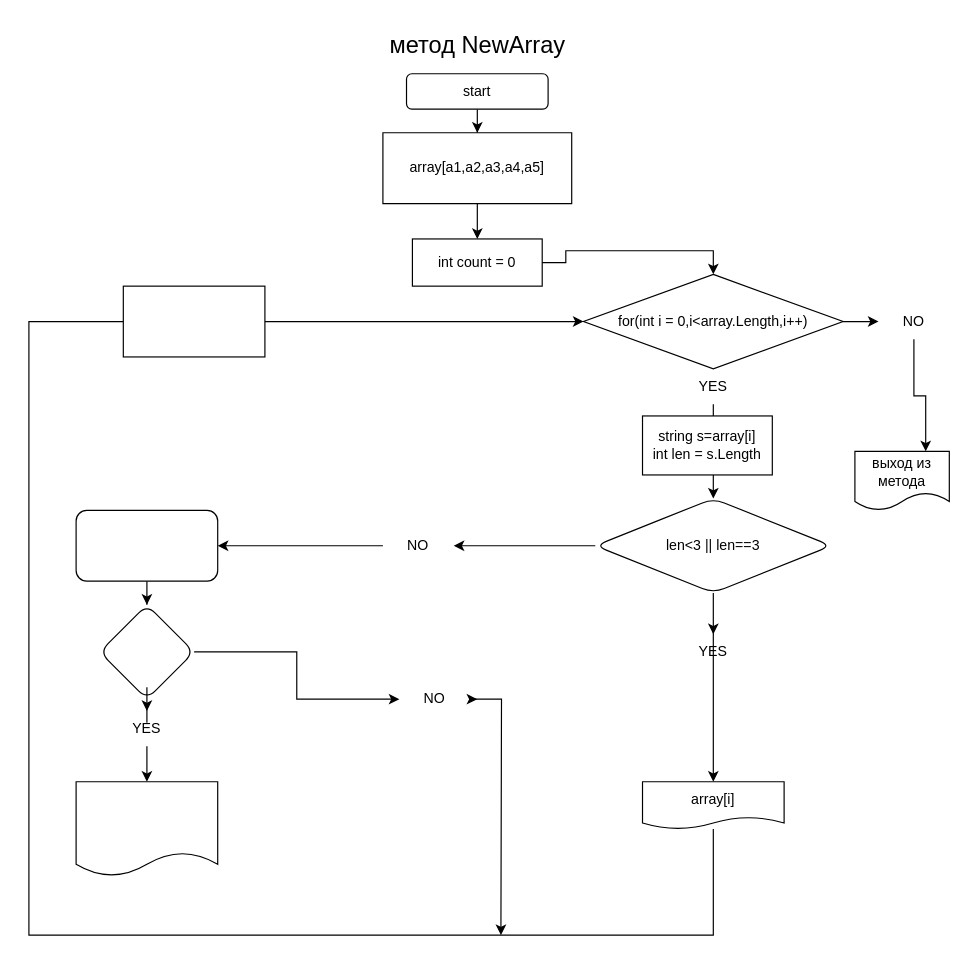
The diagram is 970 pixels wide and 965 high, and some of its shapes have lost their labels. Here are the shapes that lost their labels. From the top down, the box of each, then its label:
(122, 285, 265, 357): i++
(75, 509, 218, 581): count++
(99, 604, 194, 699): count==5
(75, 781, 218, 876): таких чисел в массиве нет
